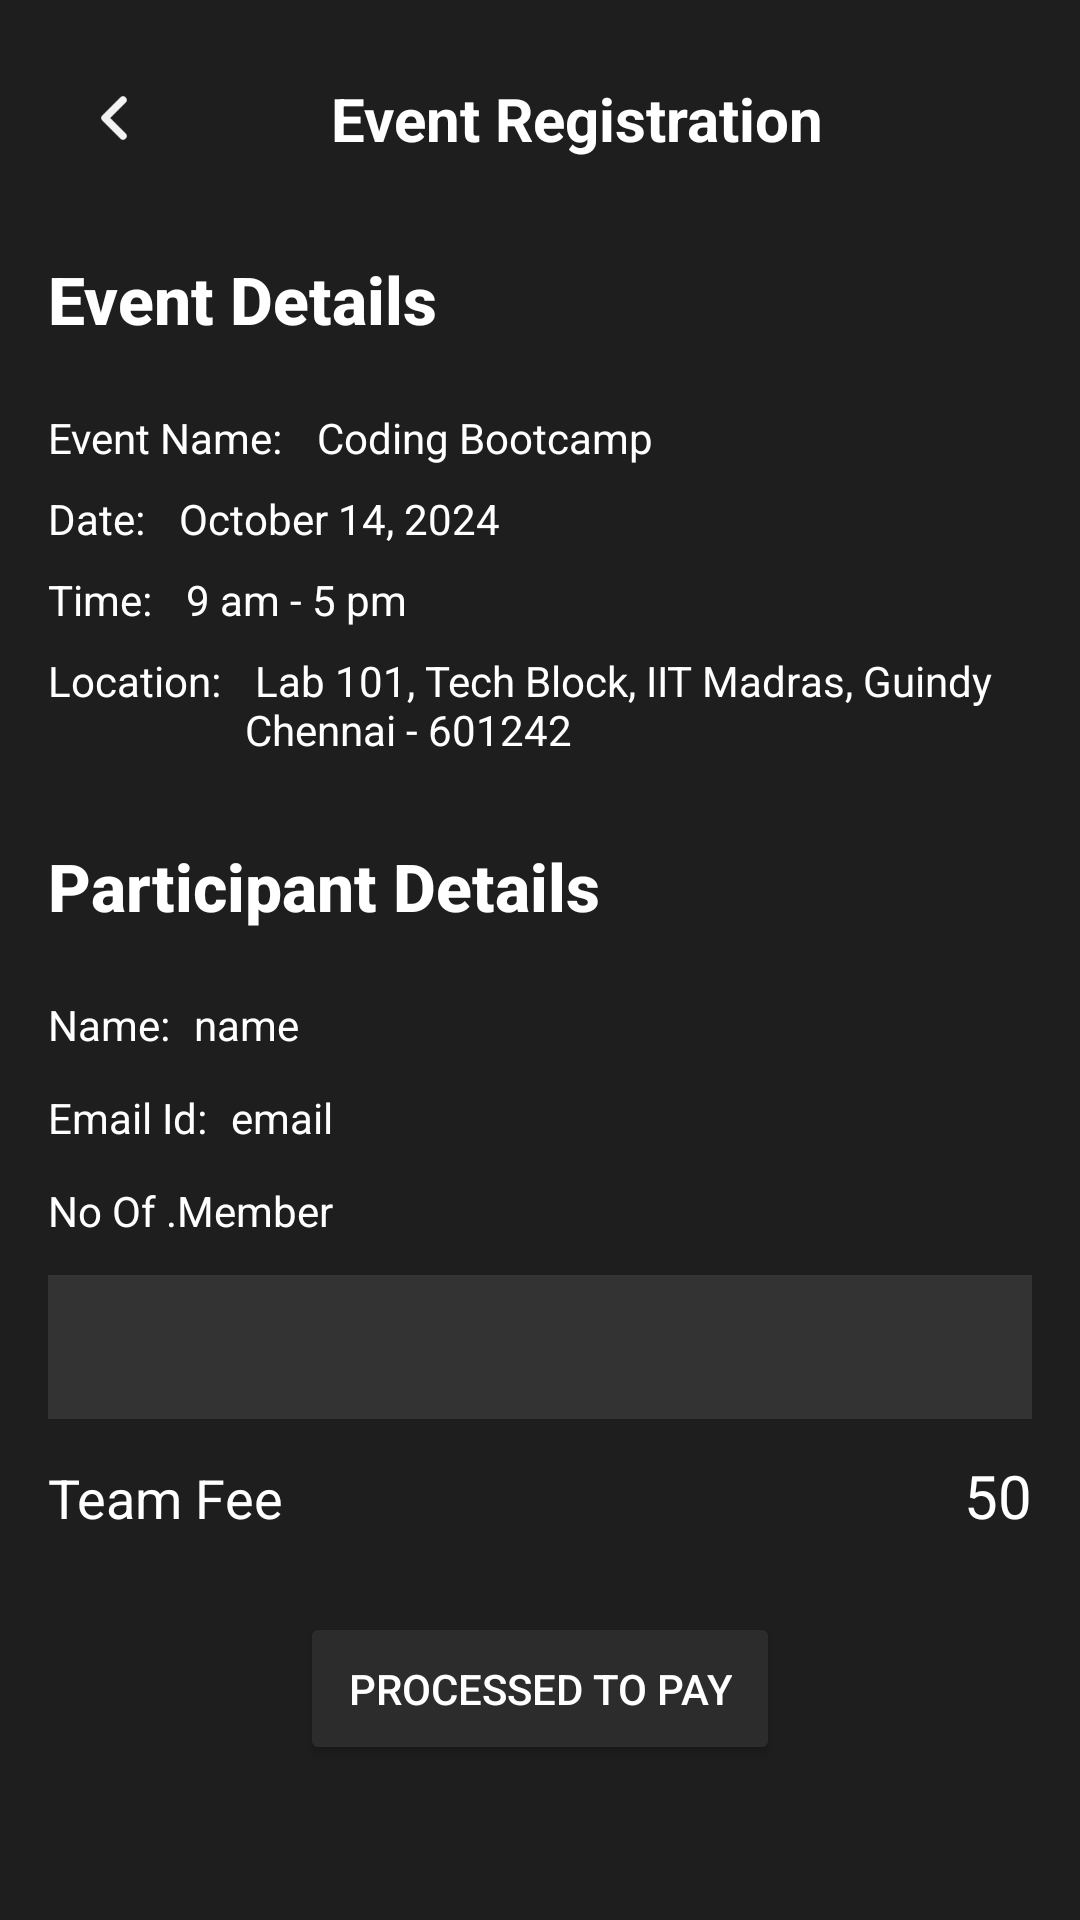

Icons on this 1080 × 1920 Android screen, each with the point to tap as (x,y):
back: (114,118)
